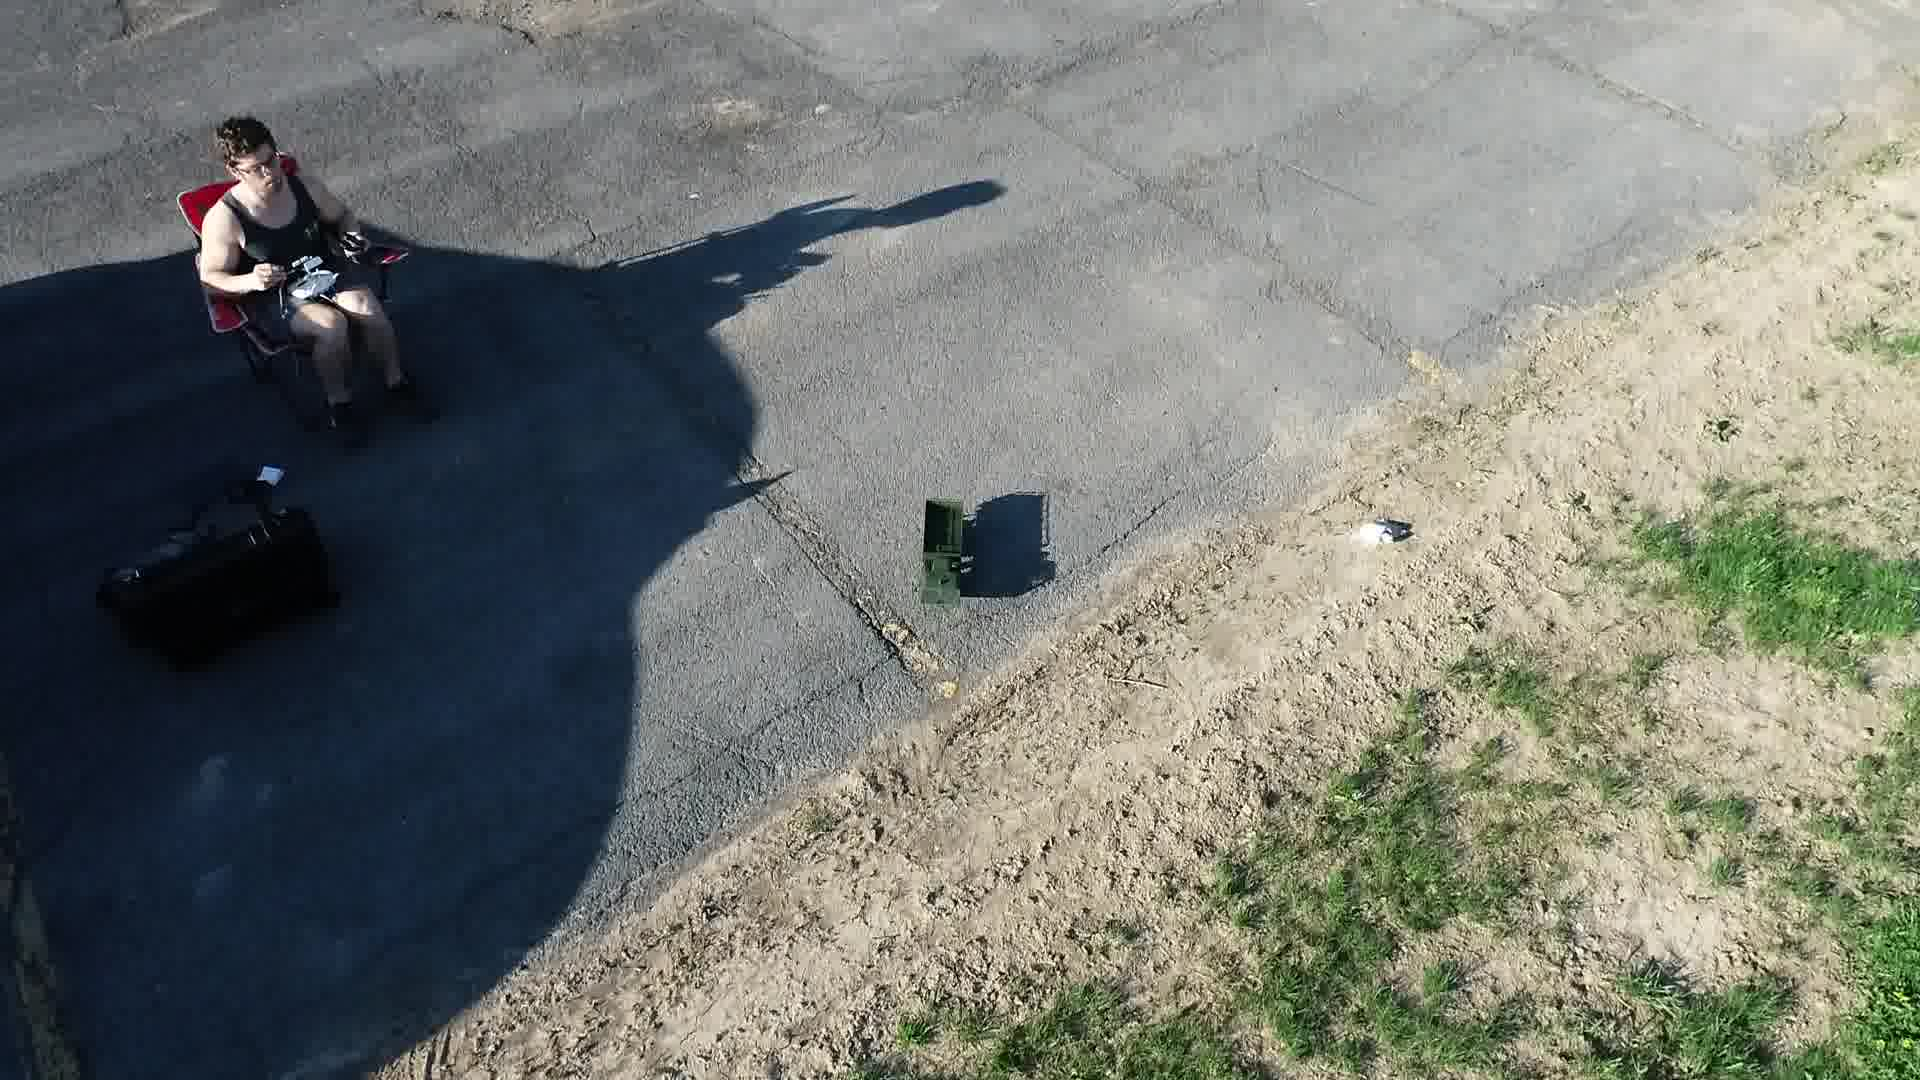transporter9: (913, 487, 978, 616)
